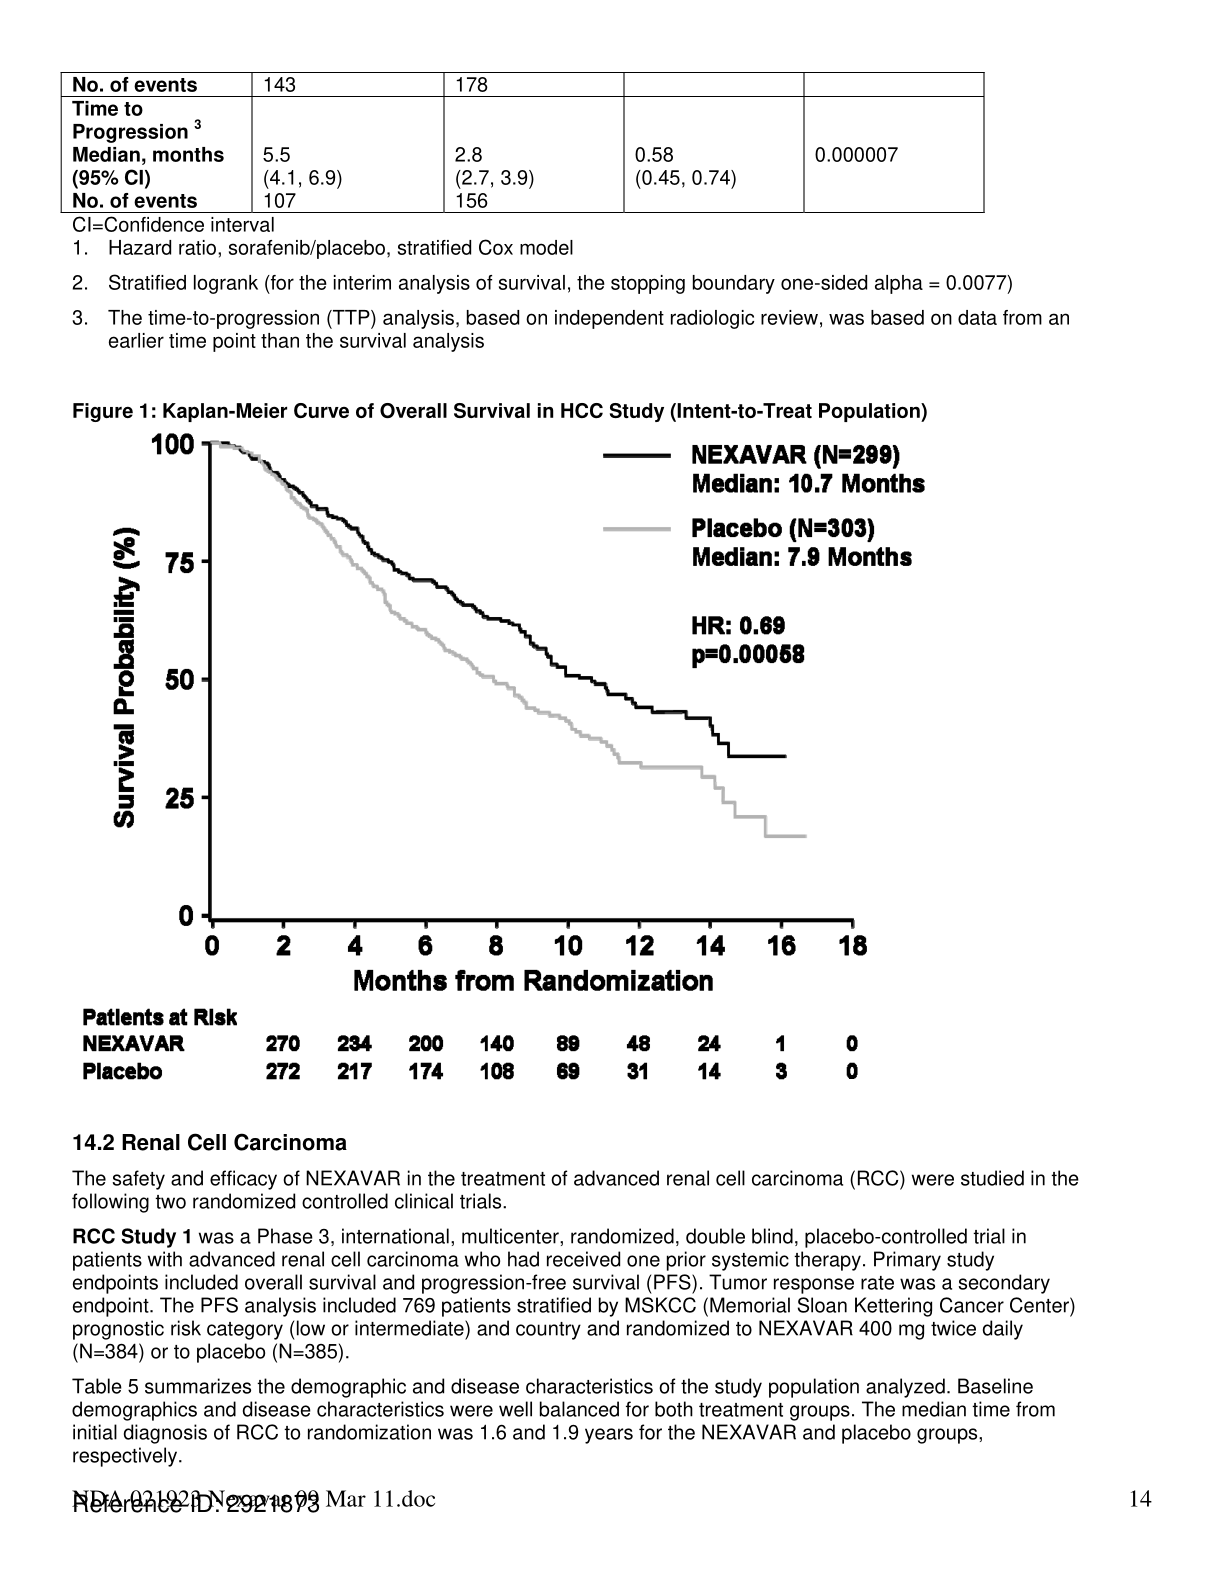full_lined: (60, 71, 986, 213)
nolines: (78, 1003, 861, 1085)
